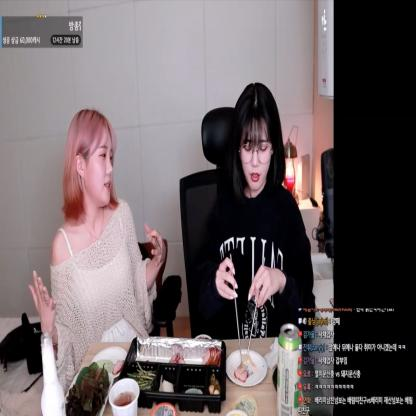streamer: (27, 109, 166, 393), (194, 81, 315, 338)
